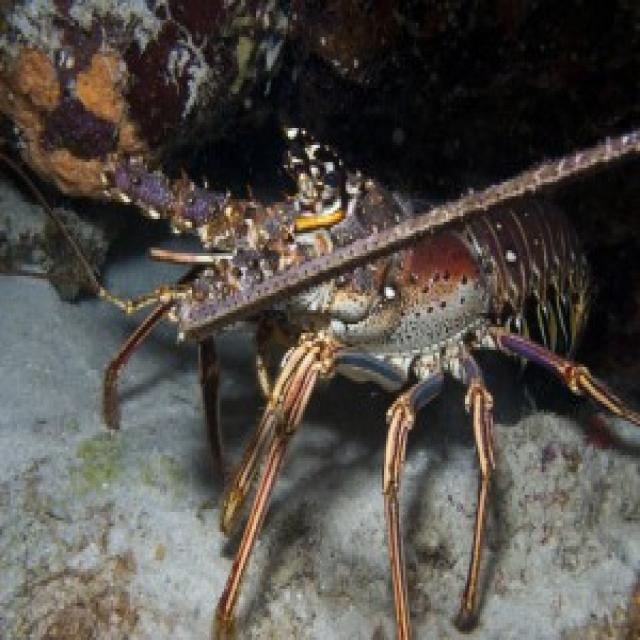lobsters: (93, 7, 640, 610)
